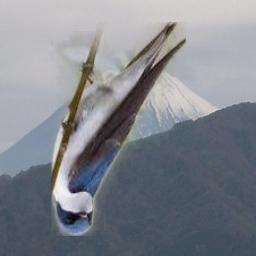Swallow: (51, 22, 186, 236)
